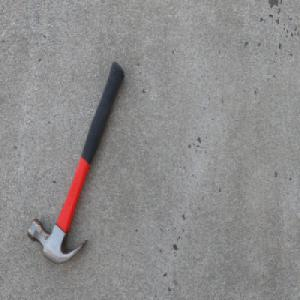Hammer: (26, 58, 125, 265)
